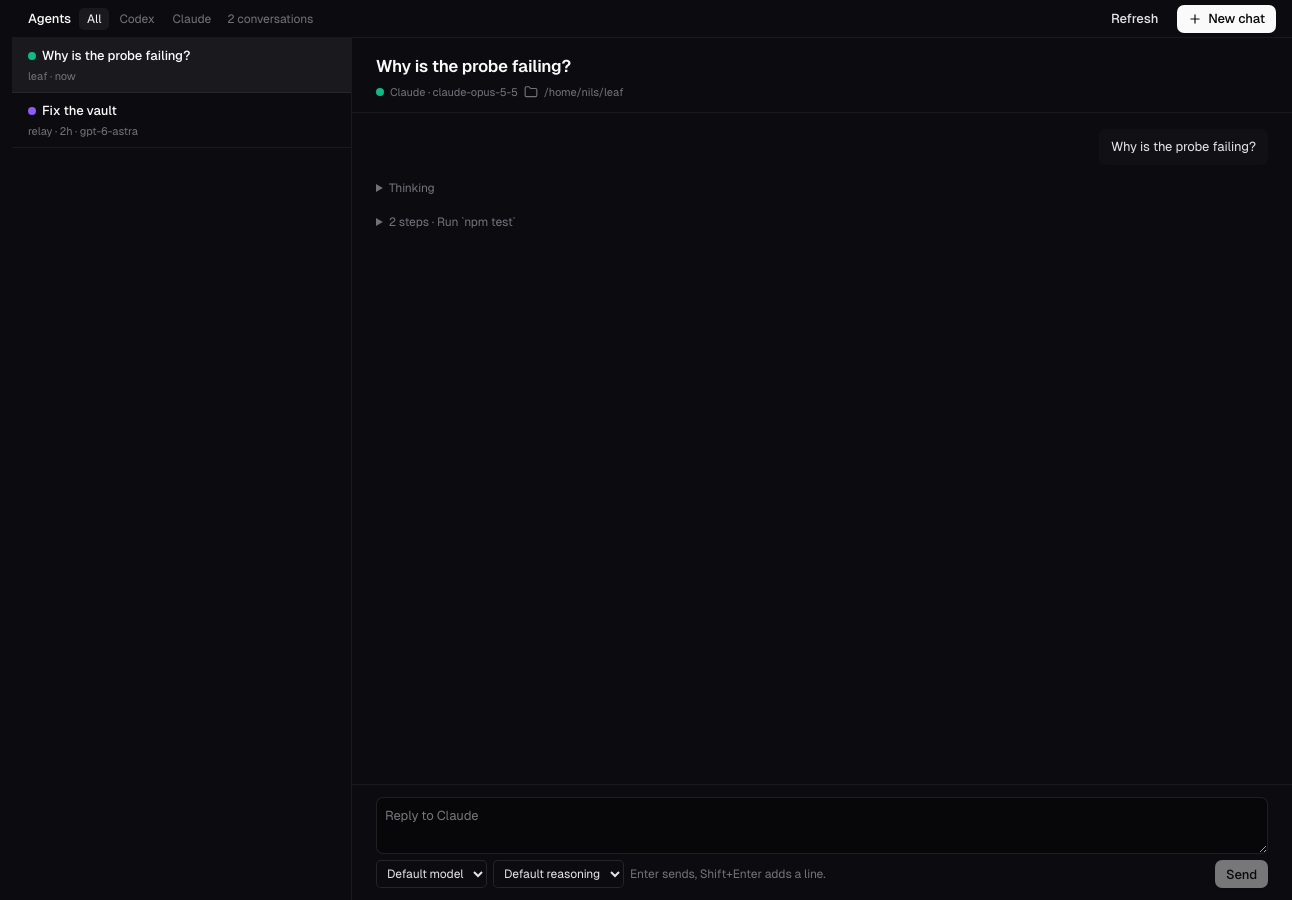
Scenario: shows reasoning and folded steps, and continues on the model and effort you pick
Check: the heading "2 steps · Run `npm test`" is shown, box [389,215,515,229]
Check: the text "Claude · claude-opus-5-5 /home/nils/leaf" is shown, box [376,85,623,99]
Select "Sonnet" in the dropdown named "Model" at (432, 874), box [376,860,487,888]
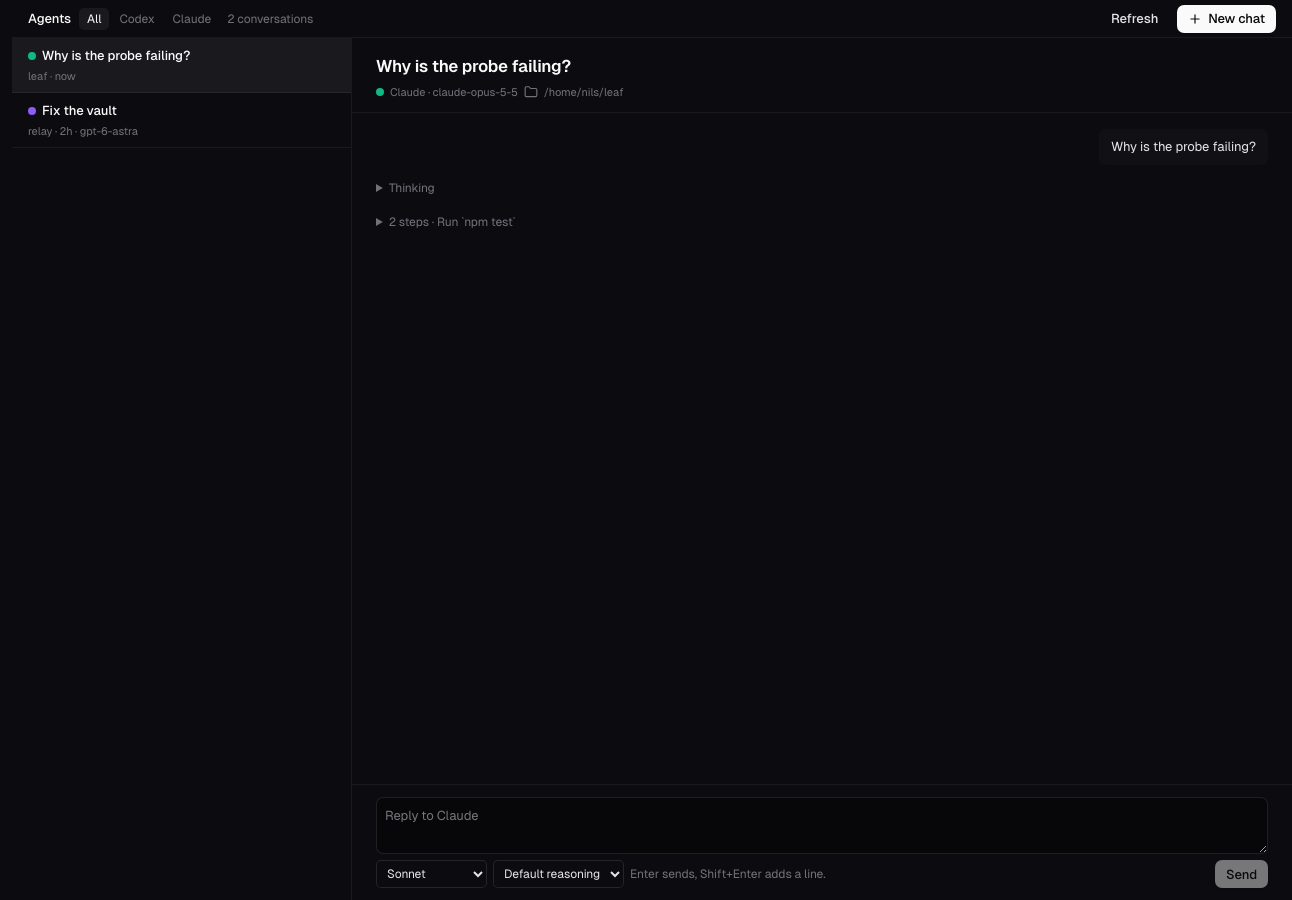
Select "Extra high" in the dropdown named "Reasoning effort" at (558, 874), box [493,860,624,888]
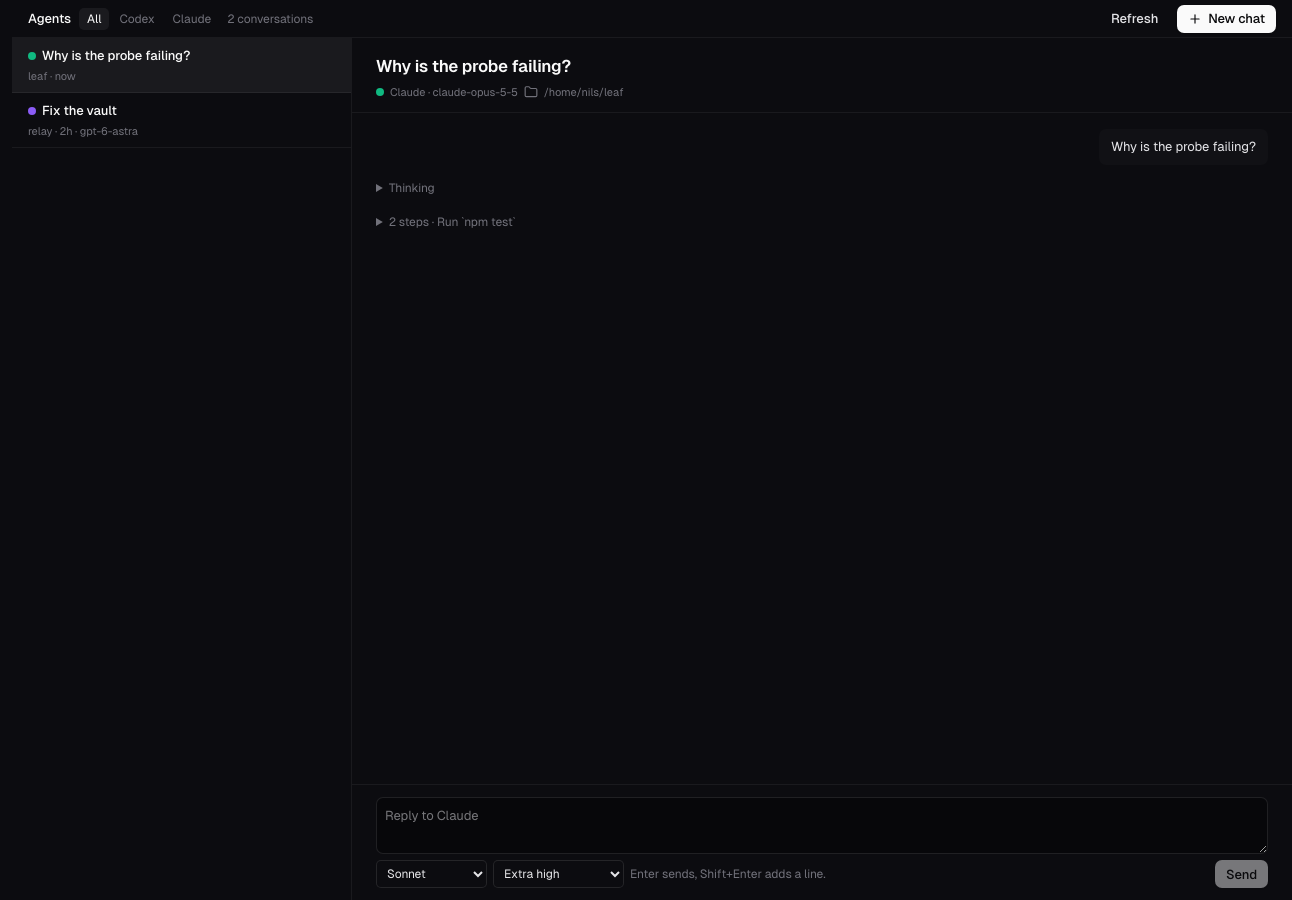
Type "And how do I fix it?" into the text box named "Message Claude" at (822, 826), box [376,797,1268,854]
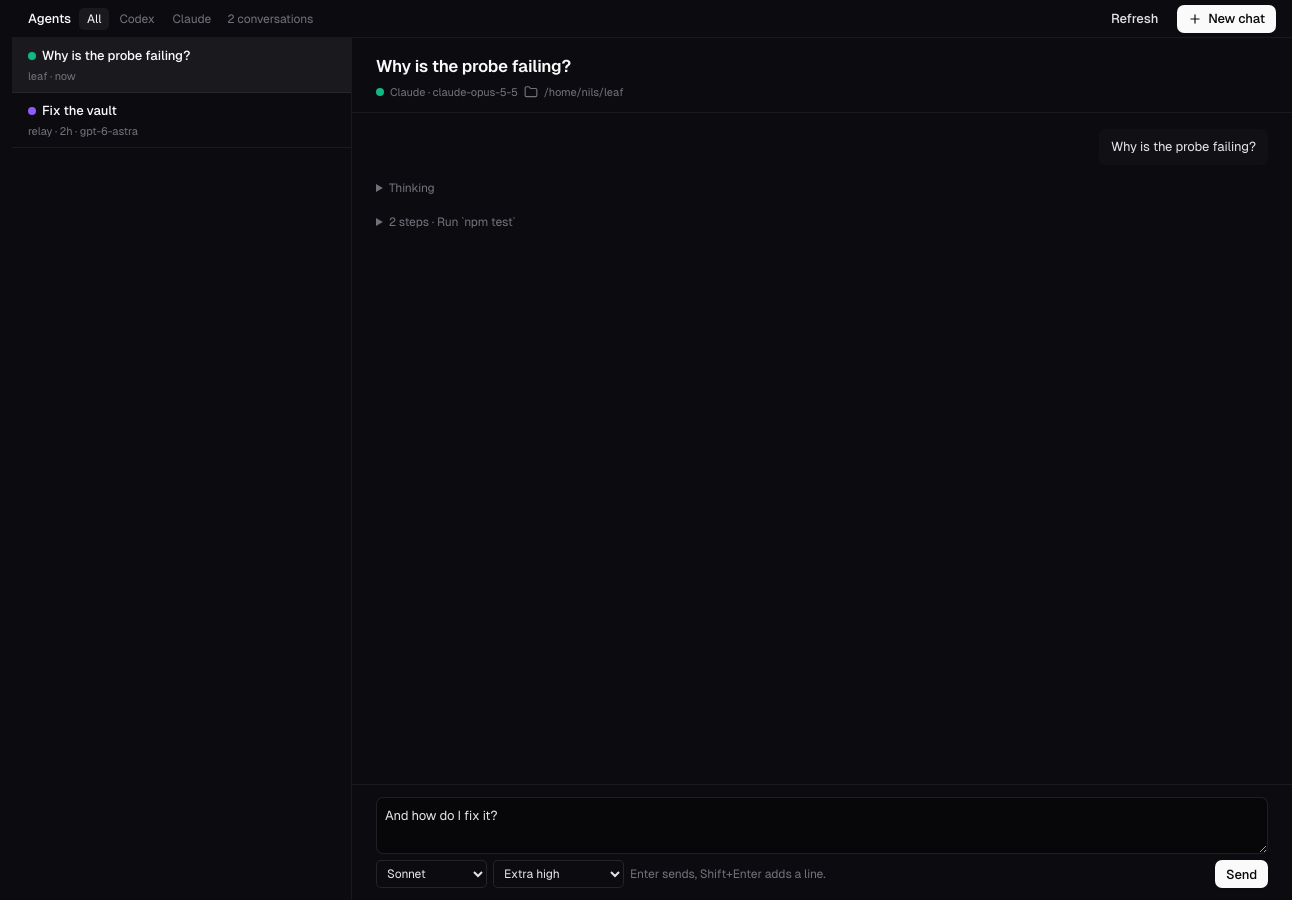
Press Enter in the text box named "Message Claude", box [376,797,1268,854]
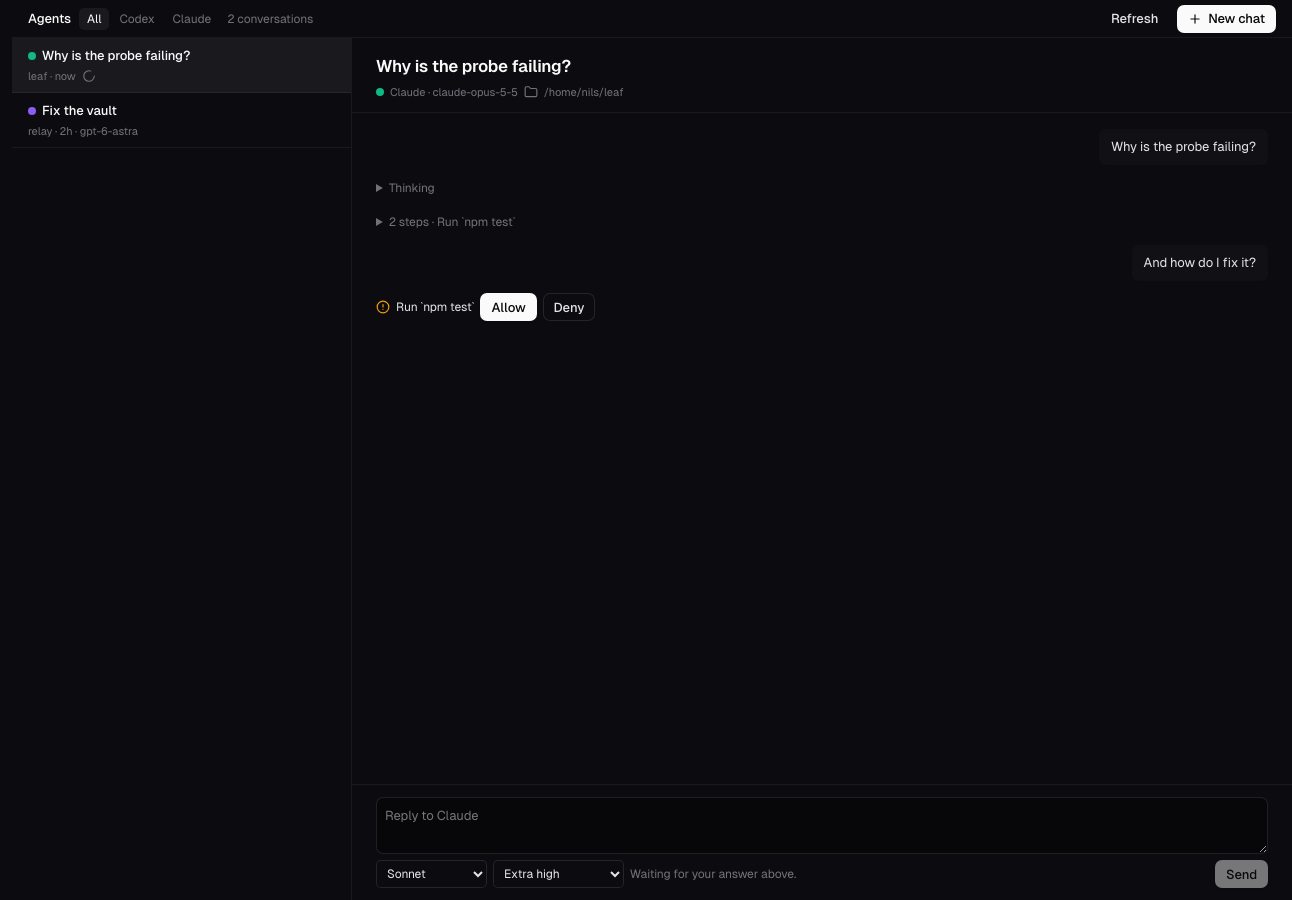
Check: the text "And how do I fix it?" is shown, box [1132,245,1268,281]
Click the button "Allow" at (509, 307), box [480,293,537,321]
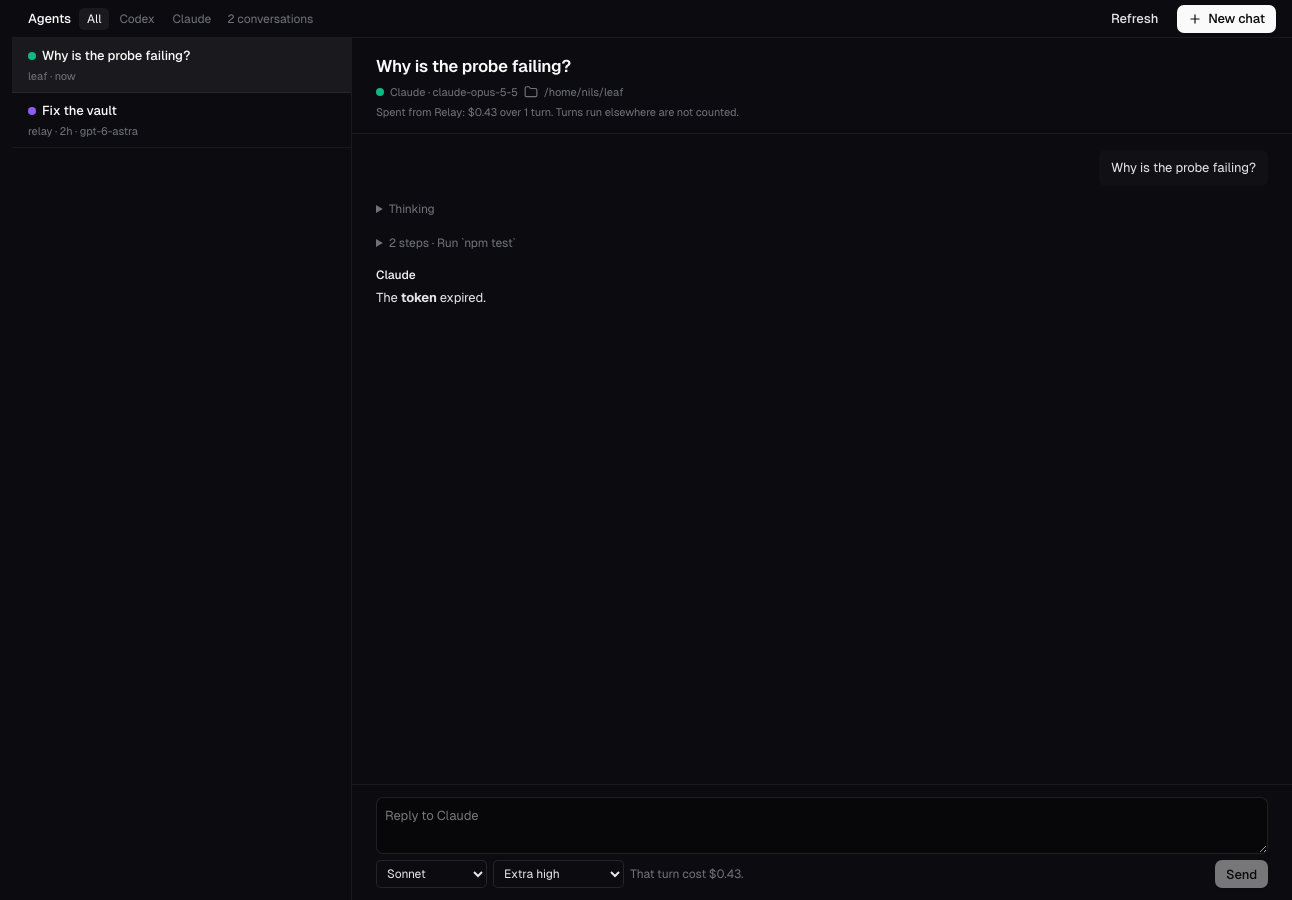
Check: the text "That turn cost $0.43." is shown, box [630,867,743,881]
